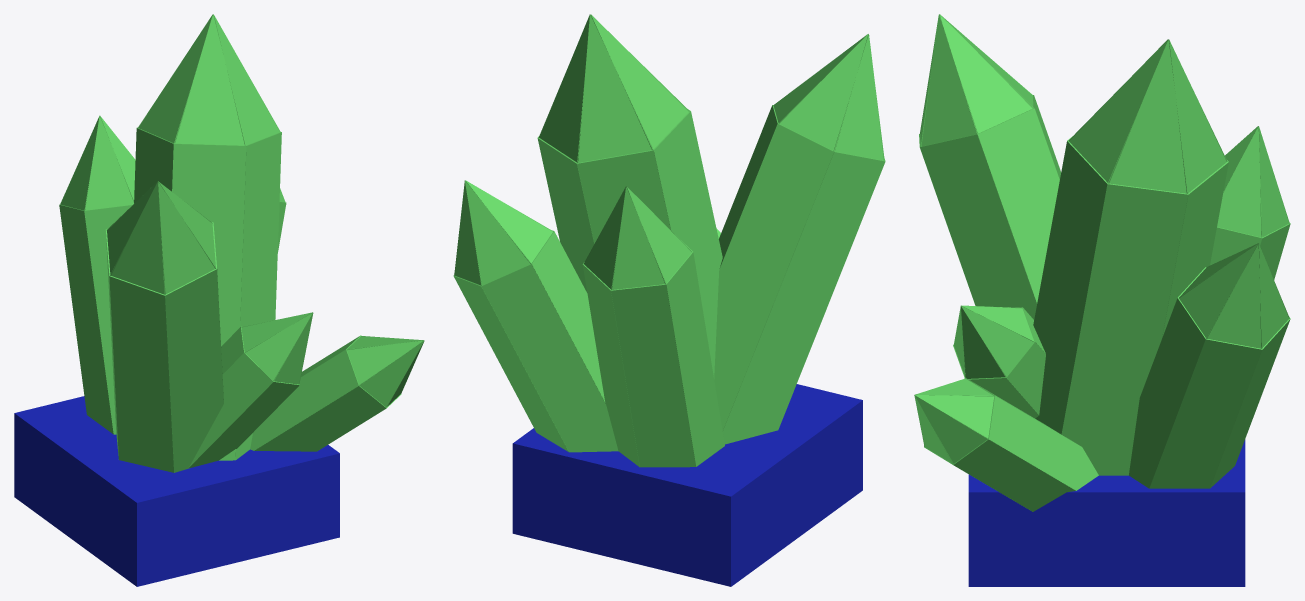
The model's file is Crystals.fbx.
3 renders of one model, left to right at view 1: azimuth 30°, elevation 25°; view 2: azimuth 150°, elevation 25°; view 3: azimuth 270°, elevation 25°, orthographic. The views are drawn at different scales.
Parts seen in each view (by area): view 1: Box (×12), Box 2, Box 1 (×15); view 2: Box (×12), Box 2, Box 1 (×12); view 3: Box (×14), Box 1 (×20), Box 2.
Boxes of the visible parts, x1,y1,x2,y2 form: Box (×12): (59, 128, 386, 472); Box 2: (14, 396, 339, 586); Box 1 (×15): (60, 14, 423, 407); Box (×12): (453, 105, 885, 467); Box 2: (512, 384, 862, 586); Box 1 (×12): (454, 15, 884, 289); Box (×14): (920, 108, 1290, 511); Box 1 (×20): (914, 14, 1289, 463); Box 2: (968, 439, 1245, 586).
Size of the model in its own units: 60.96 by 61.25 by 94.63.
